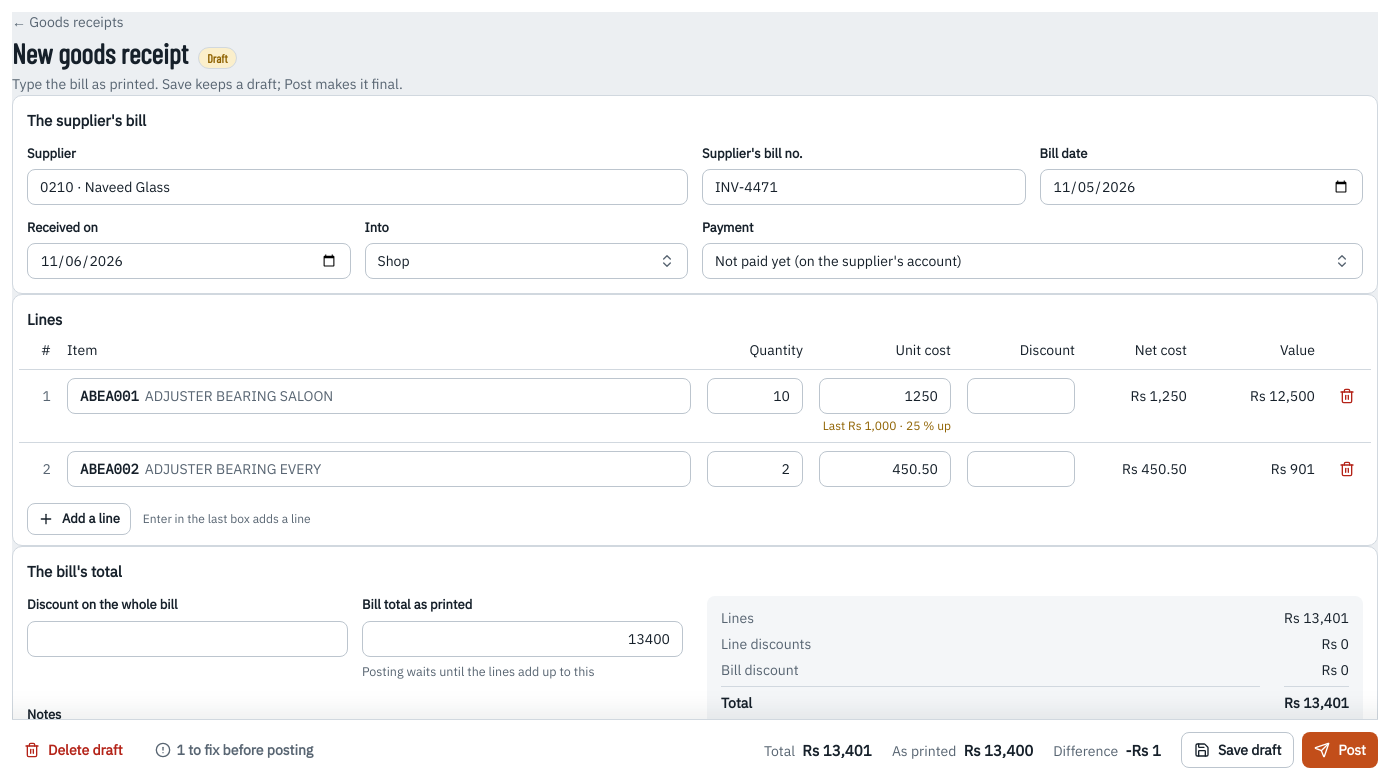
it: a goods receipt › shows the difference from the printed total in the bar, and Post sends nothing until it matches
Expected: the message reads "Total Rs 13,401 As printed Rs 13,400 Difference -Rs 1", [1126,740,1161,759]
Click the button "Post" at (1340, 750), box [1302,732,1378,768]
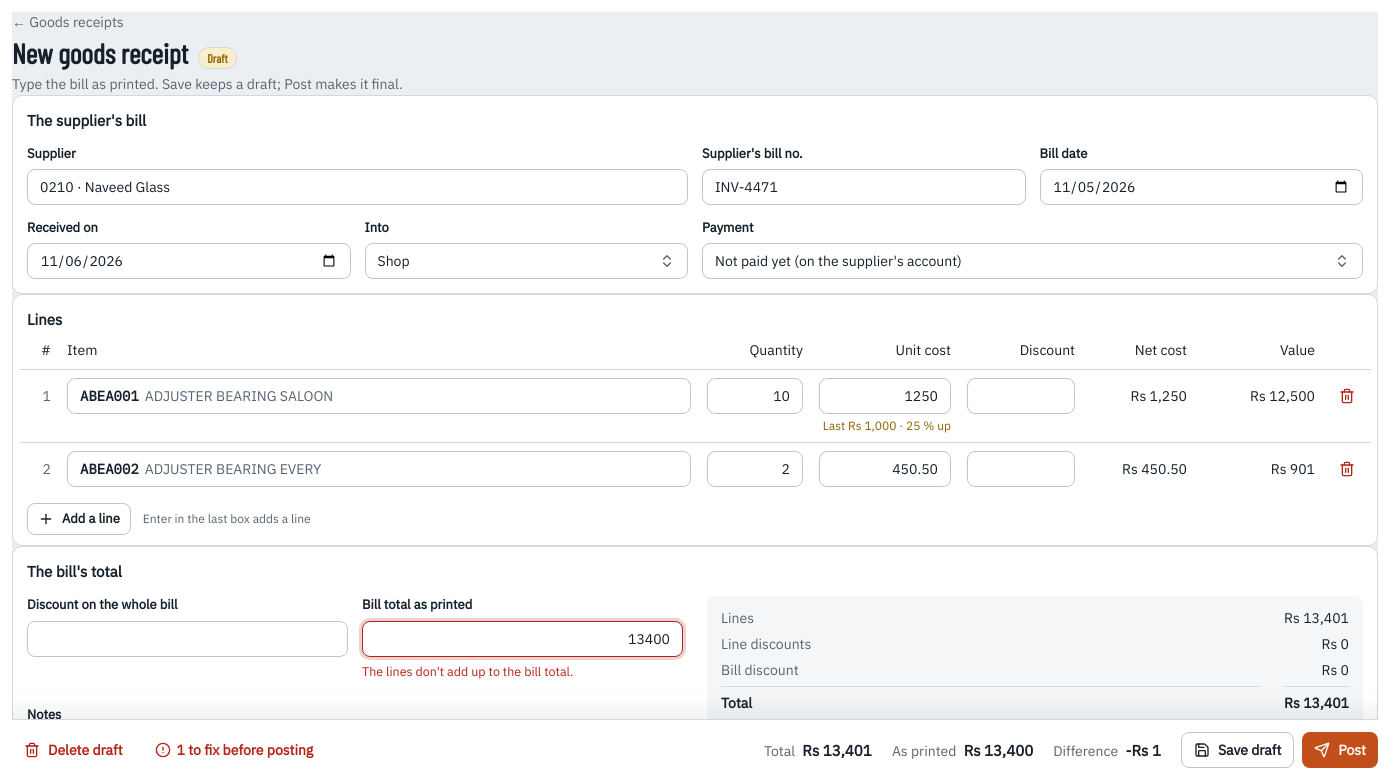
Expected: the text "1 to fix before posting" is shown, [155,740,313,760]
Result: the message "The lines don't add up to the bill total." is shown at [362,663,574,679]
Replace the text in the field labelled "Bill total as printed" with "13401" at (522, 639), box [362,621,683,657]
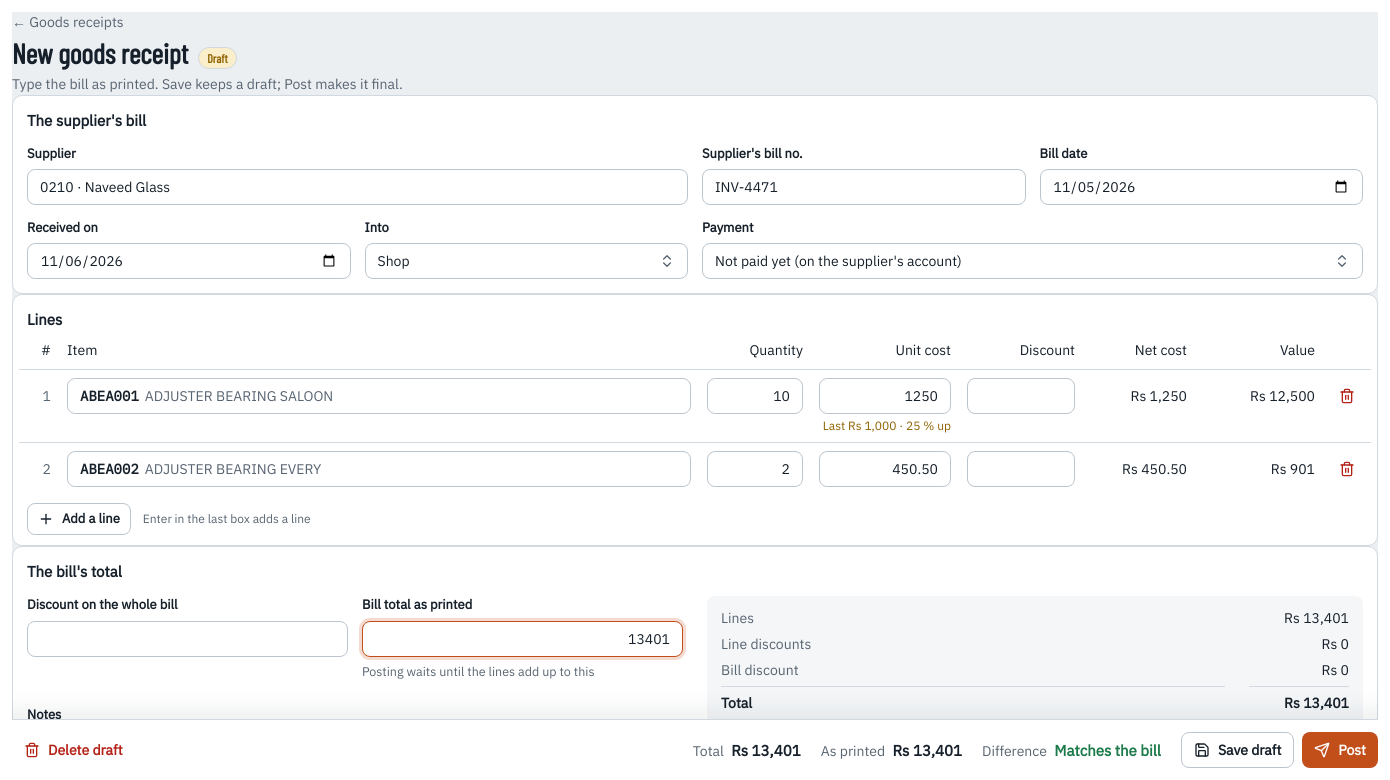
Result: the message shows "Matches the bill" at [1054,740,1161,759]
